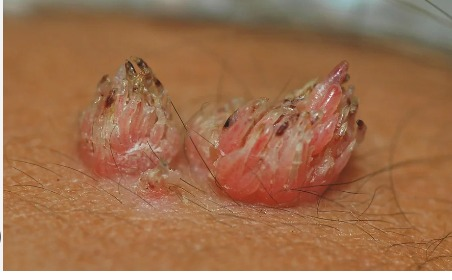Warts: (187, 34, 365, 228), (70, 35, 190, 197)
